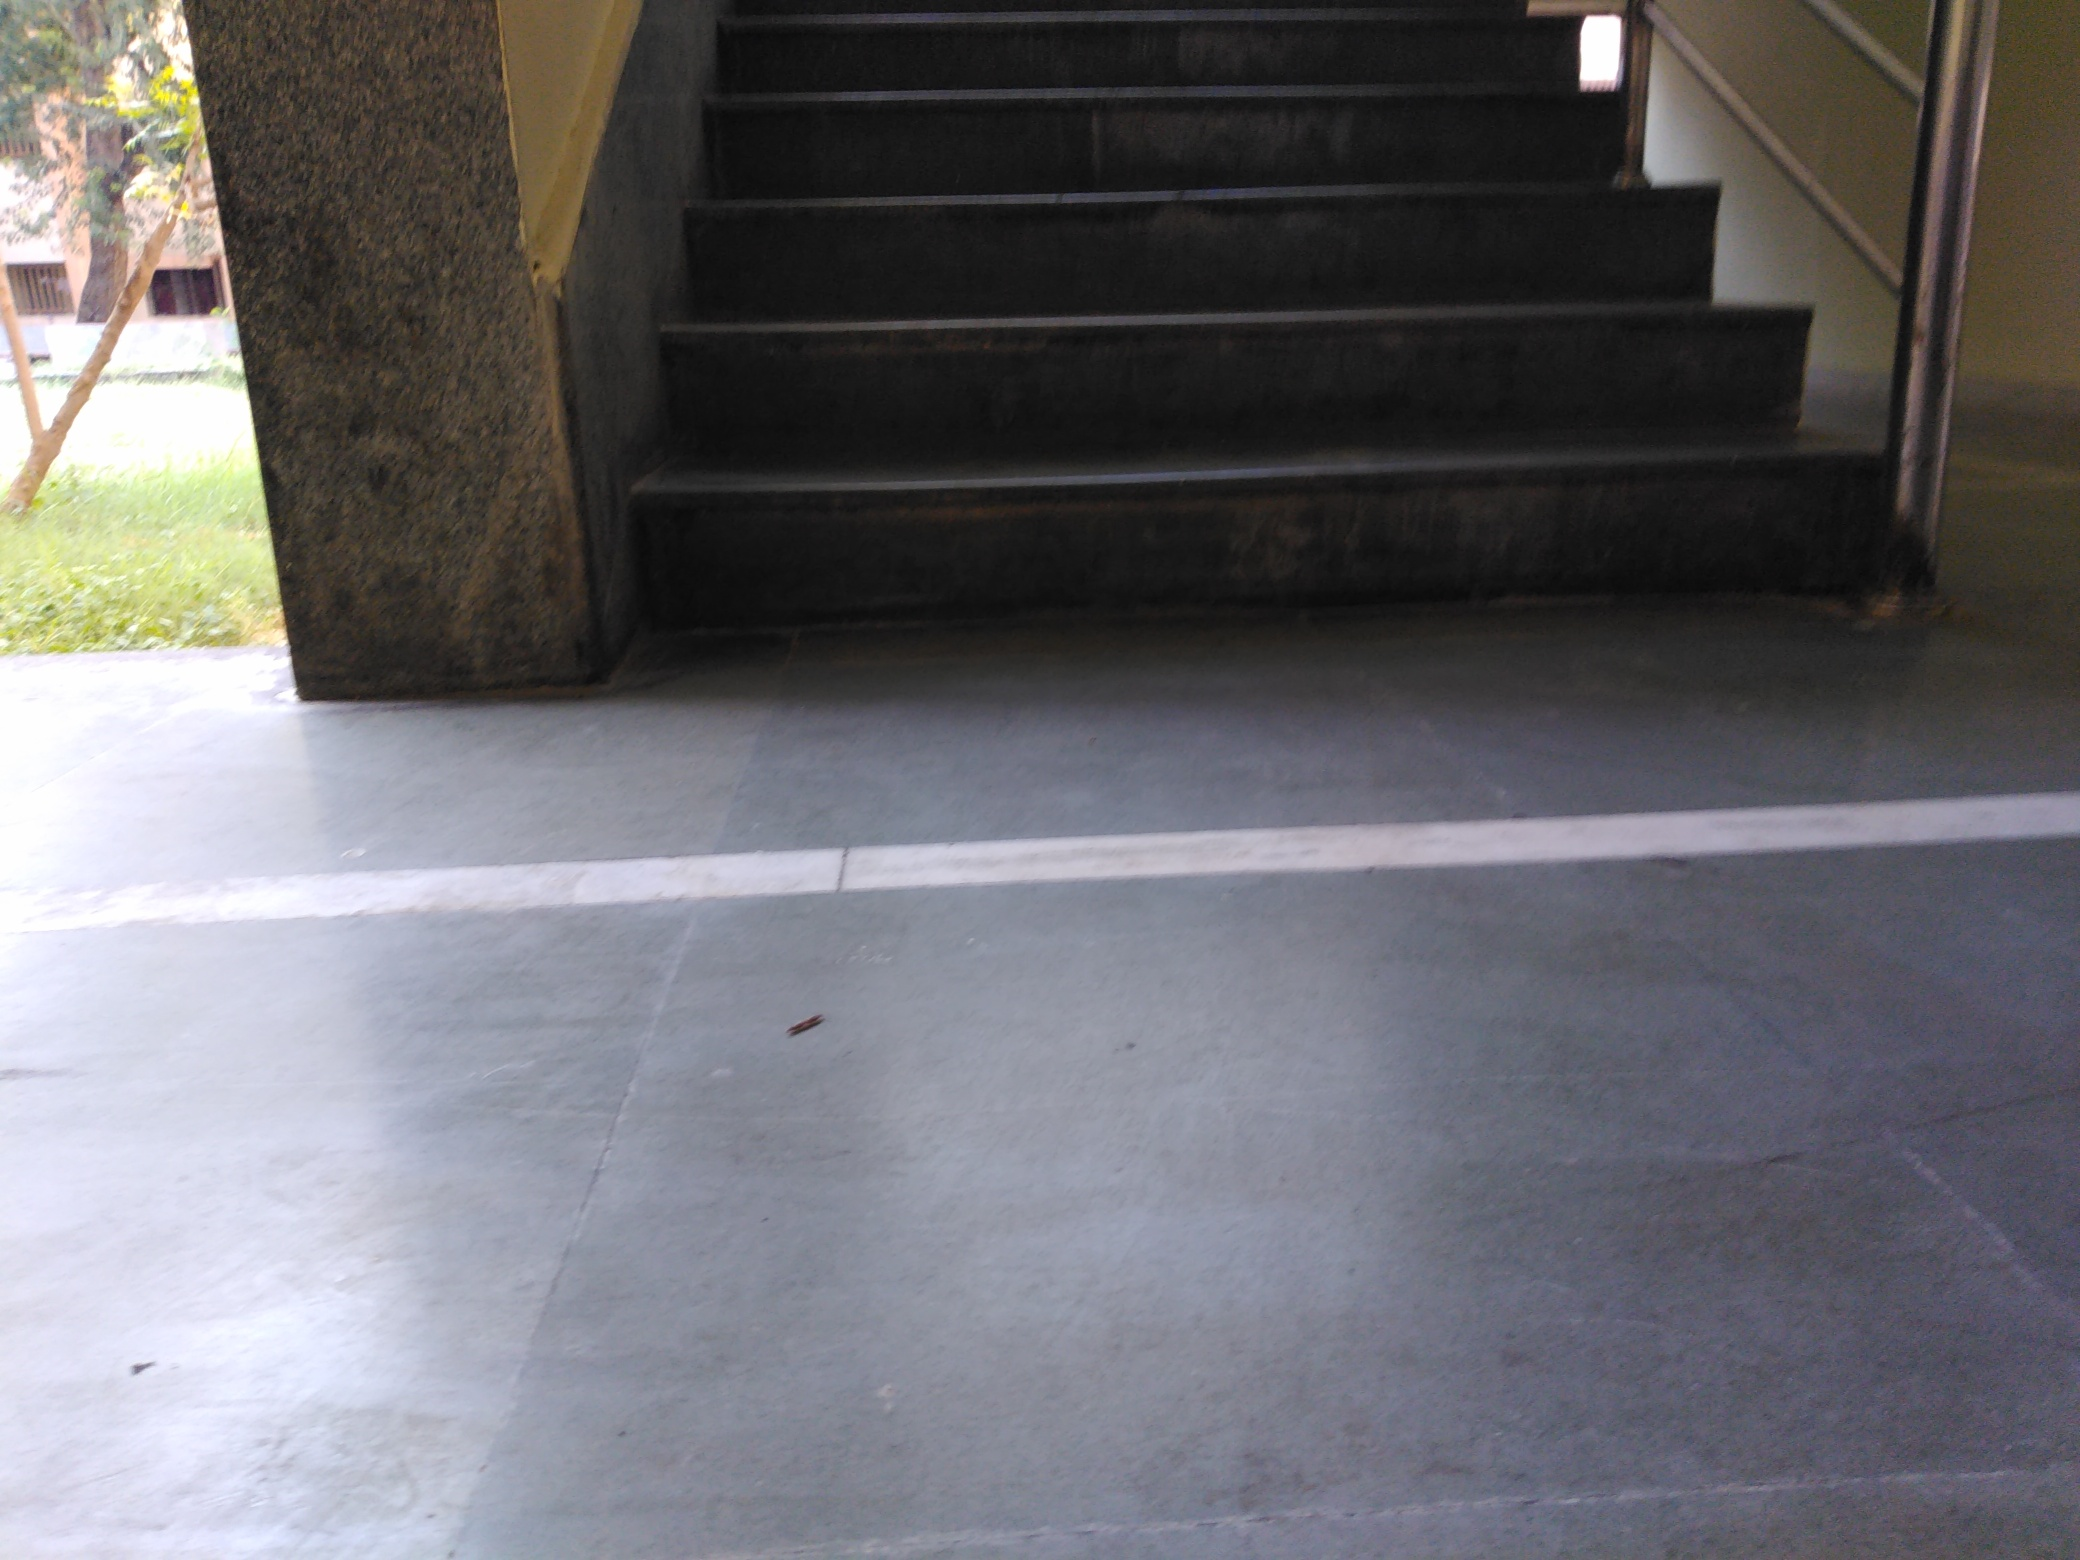stairs_up: (624, 41, 1893, 611)
